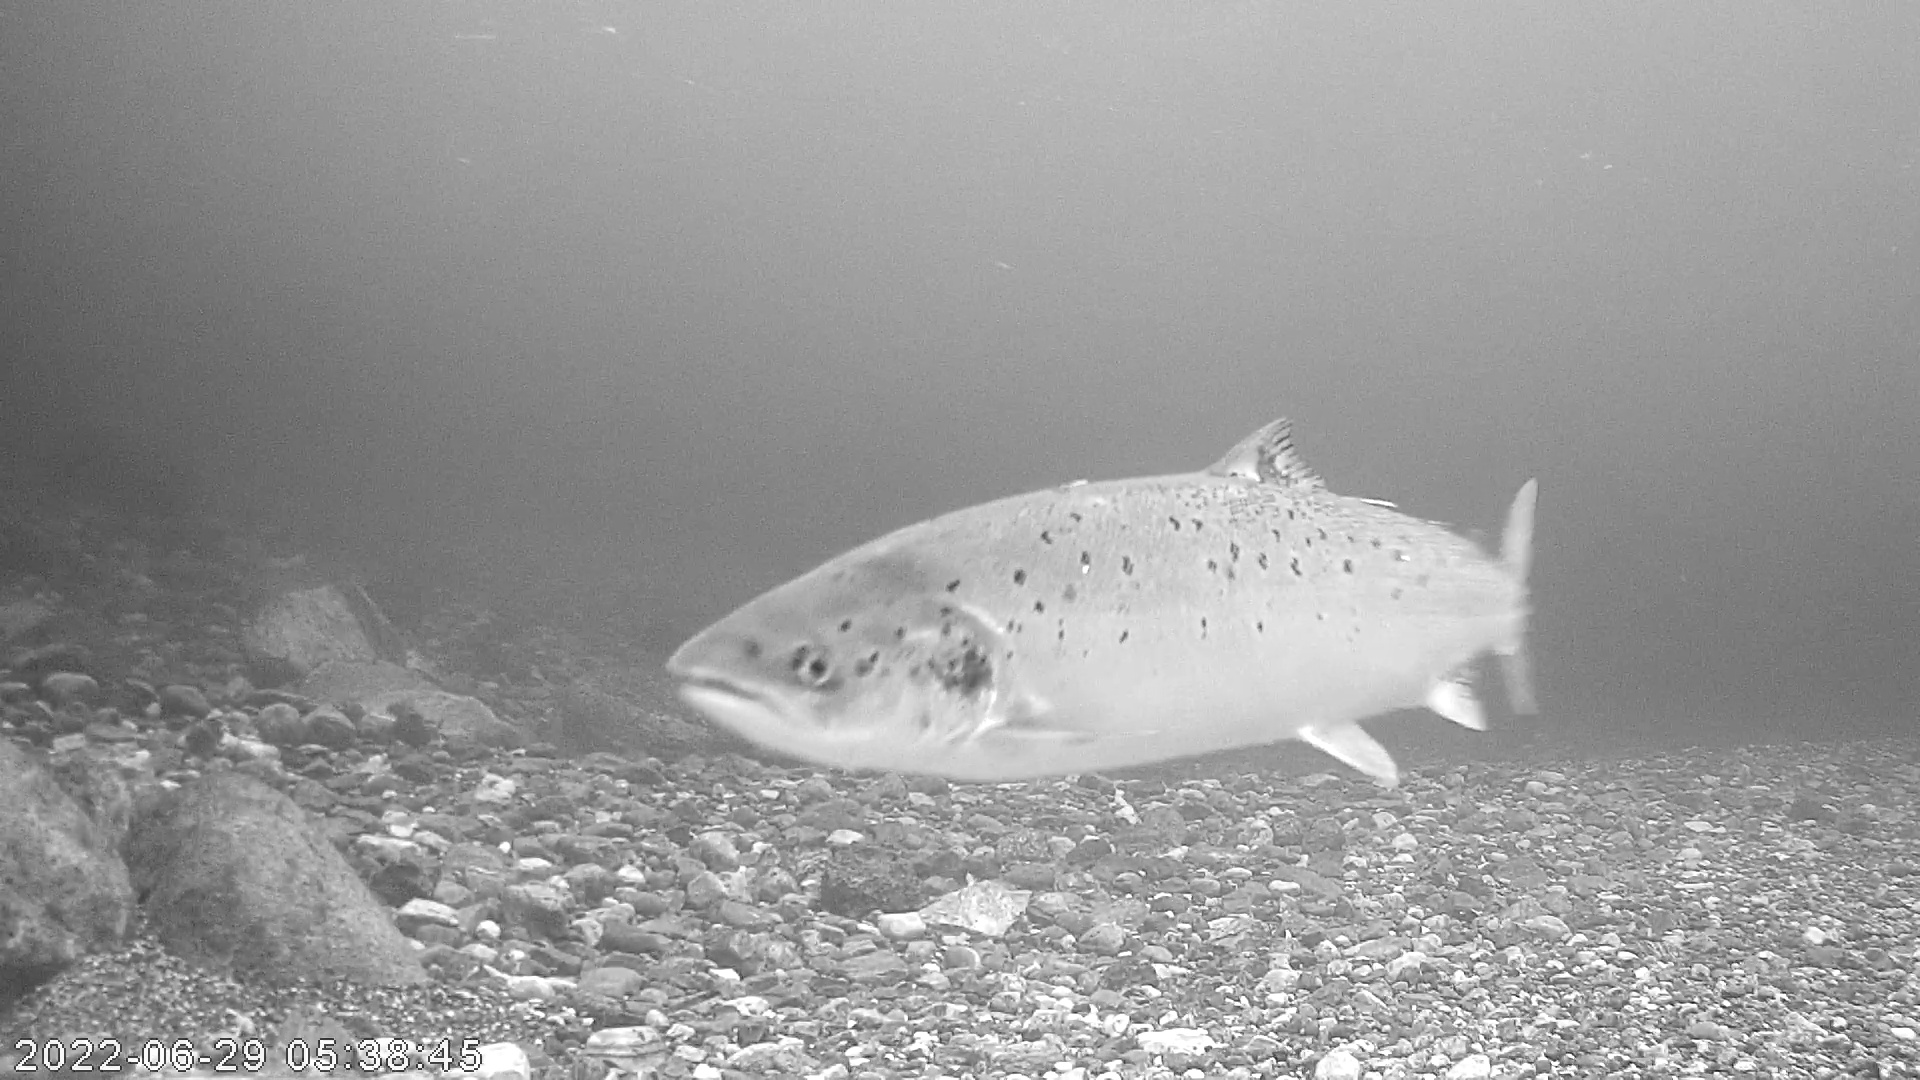salmon: (669, 342, 1535, 785)
